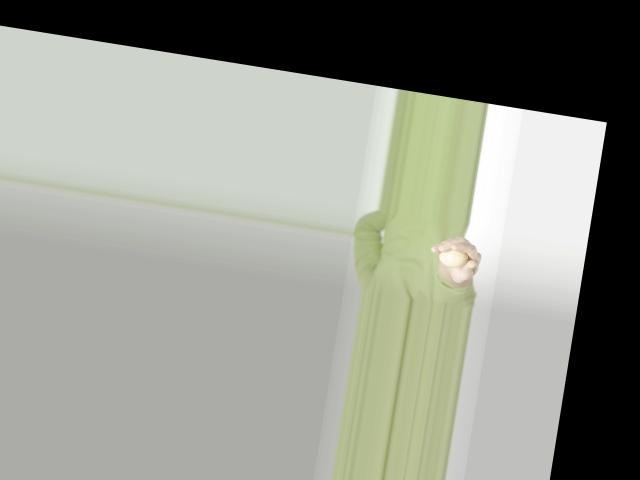egg: (437, 247, 468, 268)
